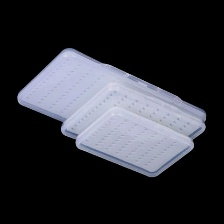plastic_box: (13, 43, 212, 181), (56, 78, 209, 151), (72, 103, 197, 181)
